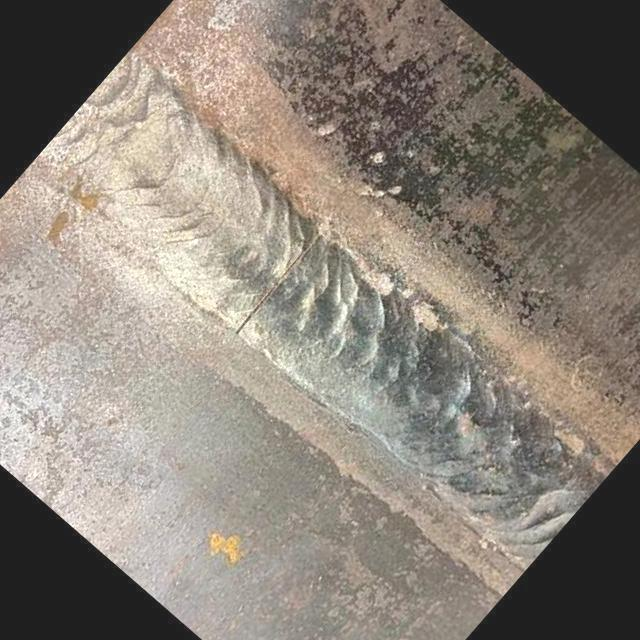defect: (228, 236, 321, 347)
